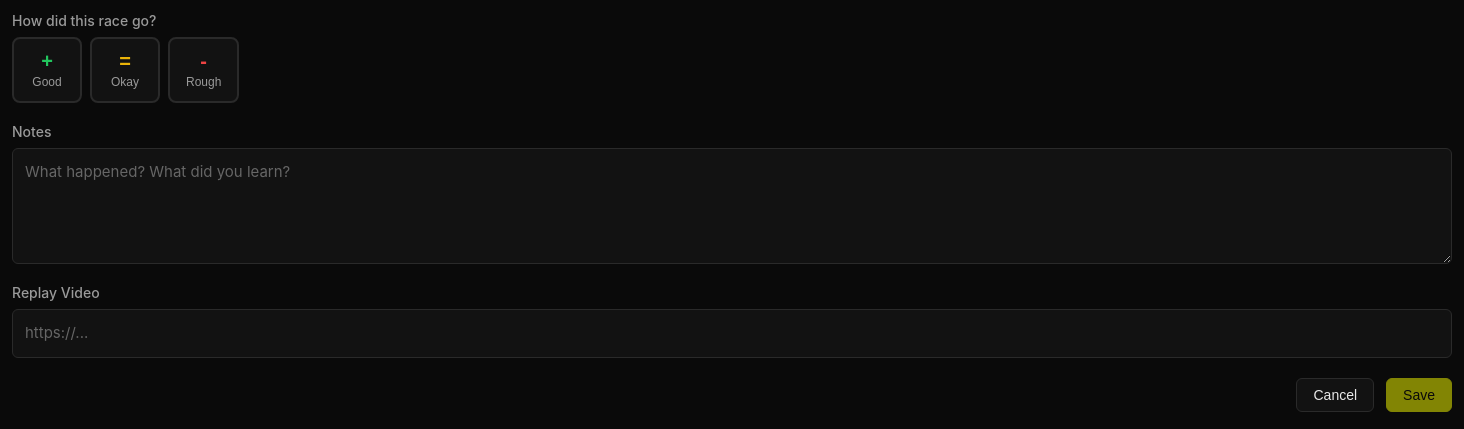
JournalEntryForm › enables save button when only replayVideo is set
Type "https://youtu.be/abc123" into the field labelled "Replay Video". click: (732, 333)
box: [12,309,1452,358]
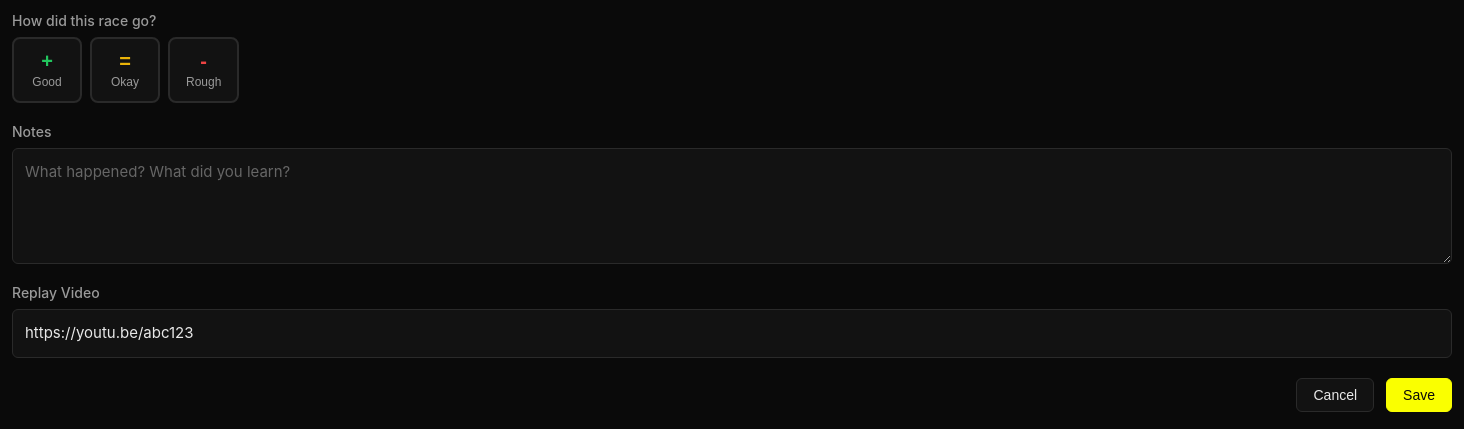
Check: the button "Save" is enabled, box [1386,378,1452,412]
